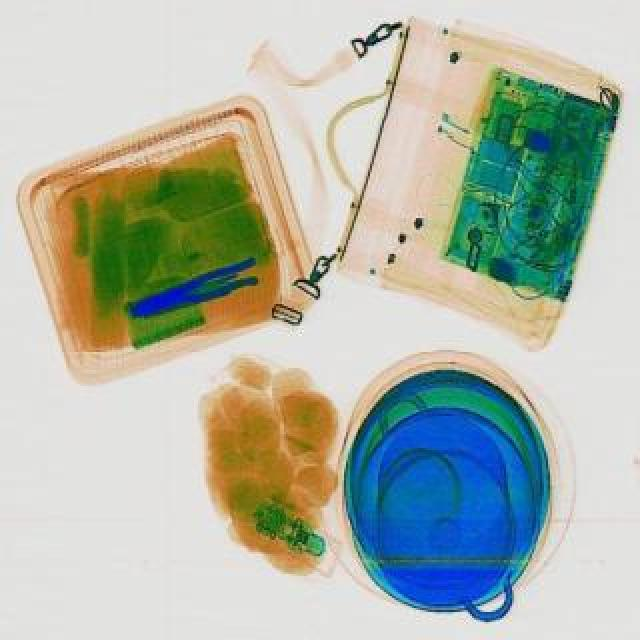wrench: (126, 256, 266, 330)
